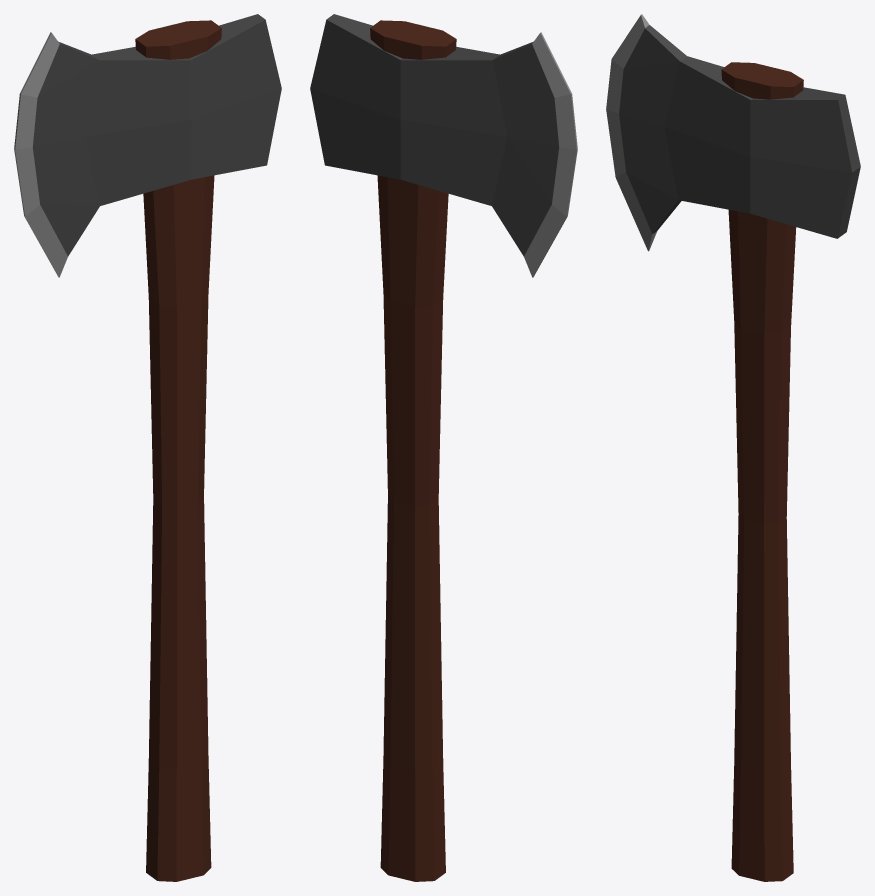
Rendered from 003_Axe.fbx.
The picture shows the model from 3 angles, left to right: view 1: azimuth 30°, elevation 25°; view 2: azimuth 150°, elevation 25°; view 3: azimuth 330°, elevation 25°; orthographic projection. The views are drawn at different scales.
Visible parts, largest first — view 1: Axe; view 2: Axe; view 3: Axe.
Boxes of the visible parts, <box> form: Axe: <box>14,14,281,881</box>; Axe: <box>310,14,577,881</box>; Axe: <box>606,14,860,881</box>.
Bounding box in the file's own units: 20.7 × 65.43 × 3.5.
